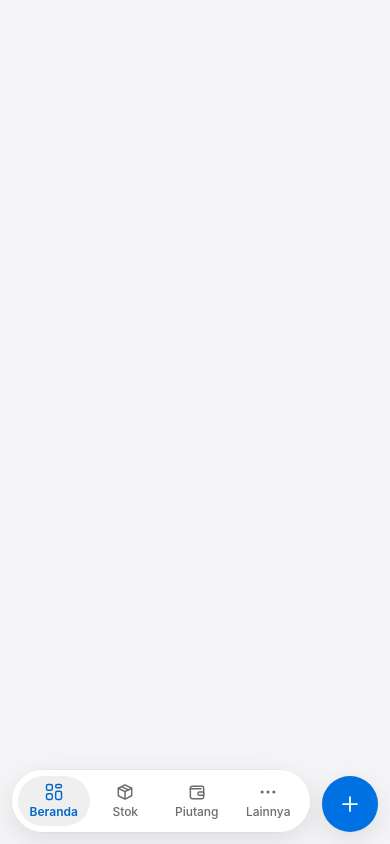
Test: BottomNav › opens LainnyaSheet when the Lainnya button is activated
This screenshot has width=390, height=844.
Click the button "Lainnya": (268, 801) [232,776,304,826]
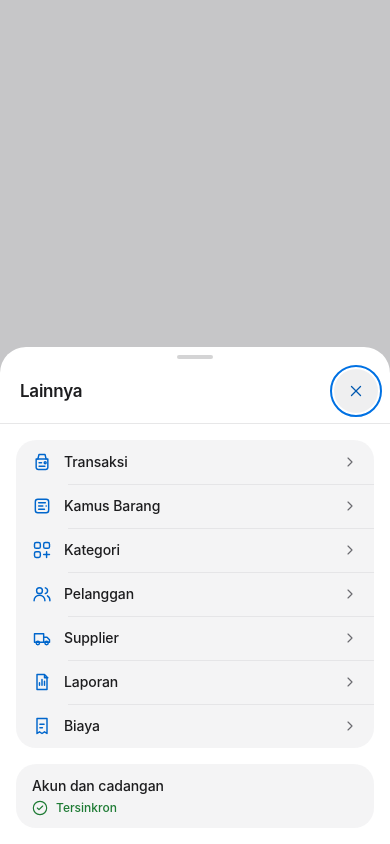
Now the dialog "Lainnya" is shown, box [0,347,389,843]
